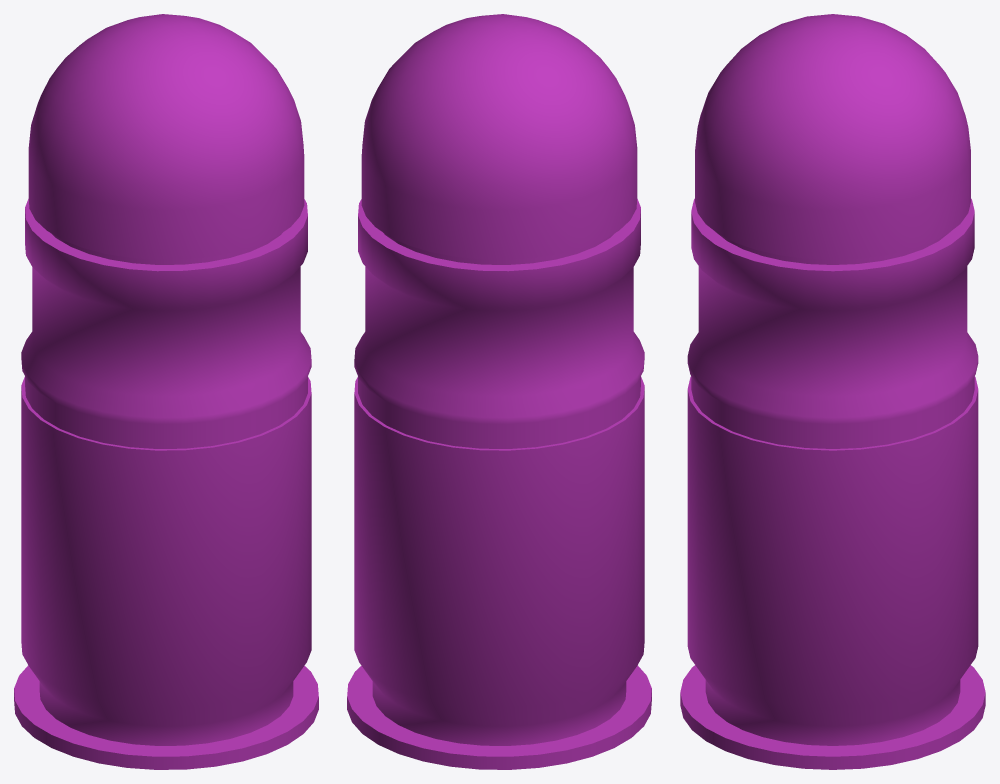
3 views of the same model, side by side, from view 1: azimuth 30°, elevation 25°; view 2: azimuth 150°, elevation 25°; view 3: azimuth 270°, elevation 25° (orthographic).
Visible parts, largest first — view 1: m4_lp; view 2: m4_lp; view 3: m4_lp.
Boxes of the visible parts, left/top/right/bottom form: m4_lp: left=14, top=14, right=318, bottom=769; m4_lp: left=347, top=14, right=651, bottom=769; m4_lp: left=680, top=14, right=985, bottom=769.
Bounding box in the file's own units: 42 × 42 × 103.
